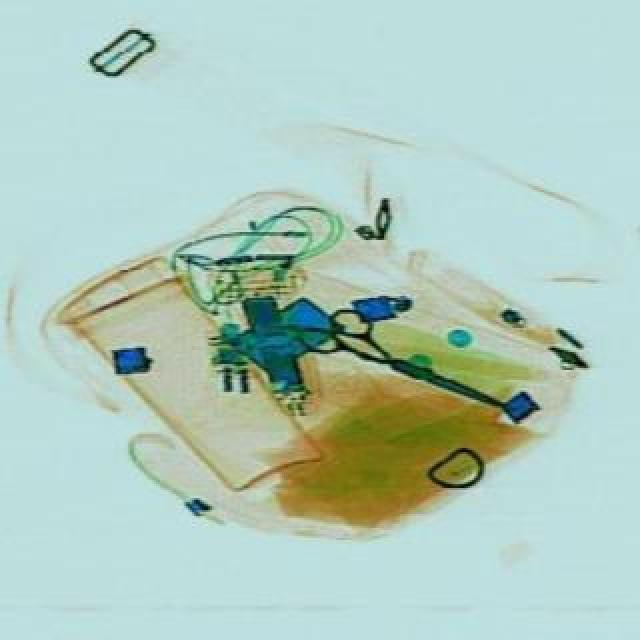pliers: (290, 290, 518, 434)
